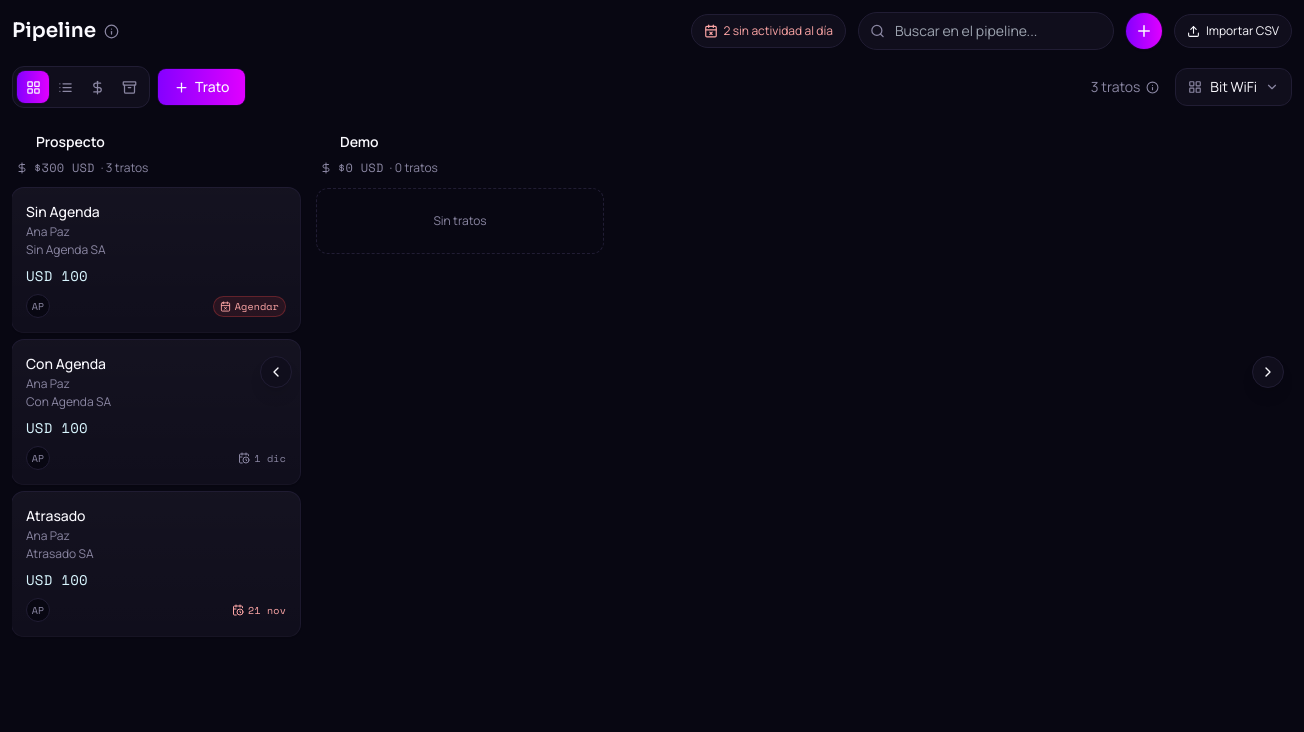
Test: Pipeline: próxima actividad en las tarjetas › el filtro «sin actividad al día» deja solo los tratos pendientes y avisa cuántos son
The image size is (1304, 732).
Click the button "2 sin actividad al día": click(768, 31) 690,14 -> 846,48
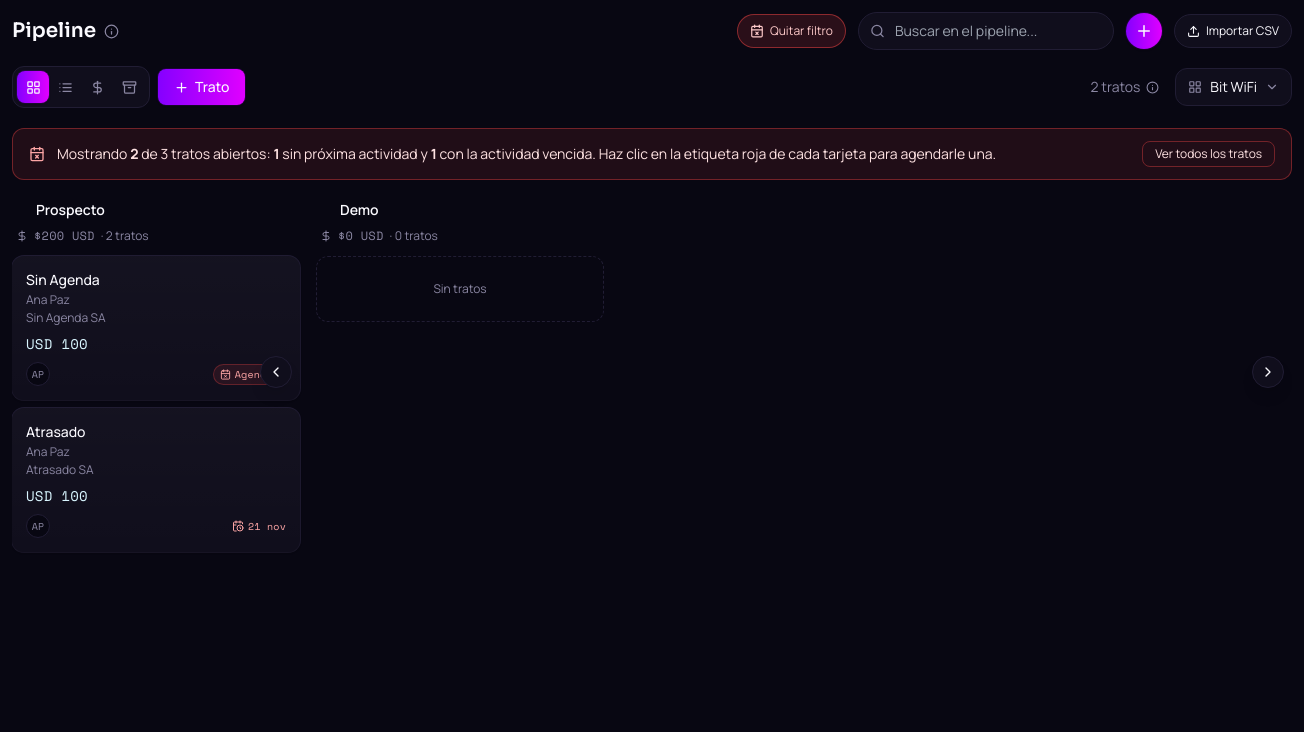
Expected: the text "Con Agenda" is gone
Expected: the button "Quitar filtro" is shown, 737,14 -> 846,48
Expected: the text "sin próxima actividad y" is shown, 280,144 -> 431,163
